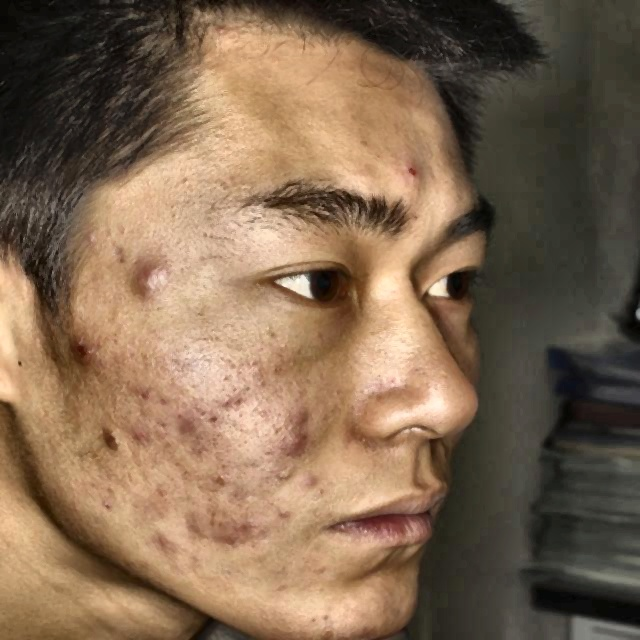pustule: (145, 525, 191, 563), (130, 266, 174, 296), (67, 327, 101, 363), (221, 516, 267, 542), (188, 510, 215, 535), (393, 157, 421, 180), (96, 421, 124, 444), (138, 422, 161, 447), (287, 426, 308, 449), (118, 384, 148, 400), (146, 486, 172, 502), (298, 475, 324, 489), (175, 417, 194, 435), (218, 390, 238, 405)
